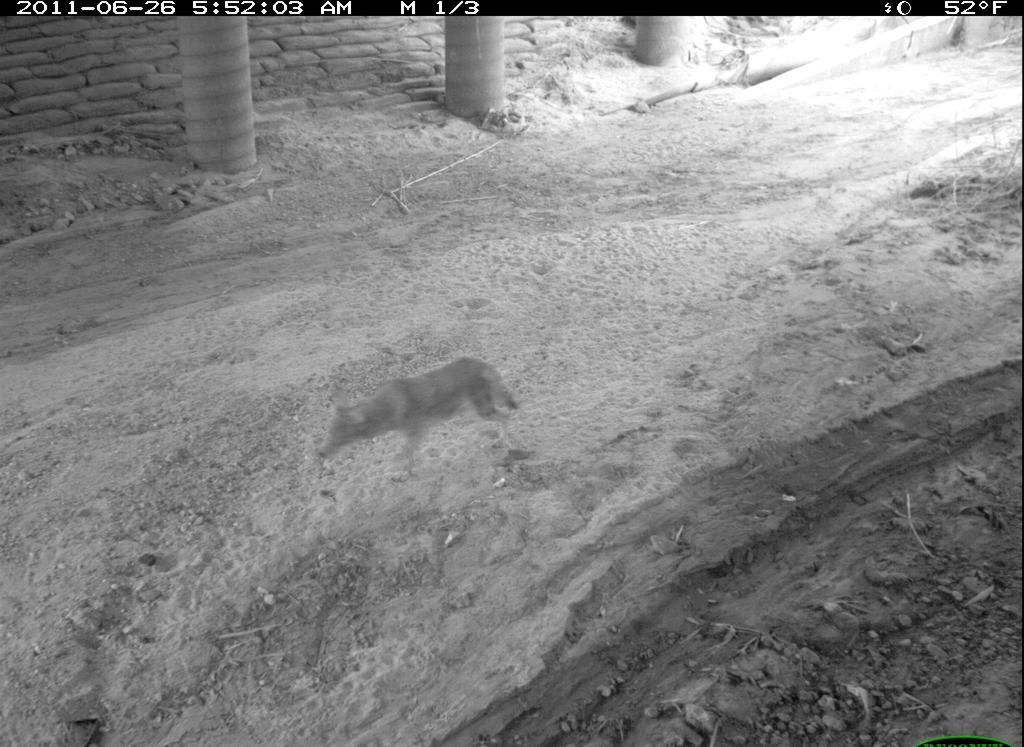coyote: (313, 356, 525, 466)
